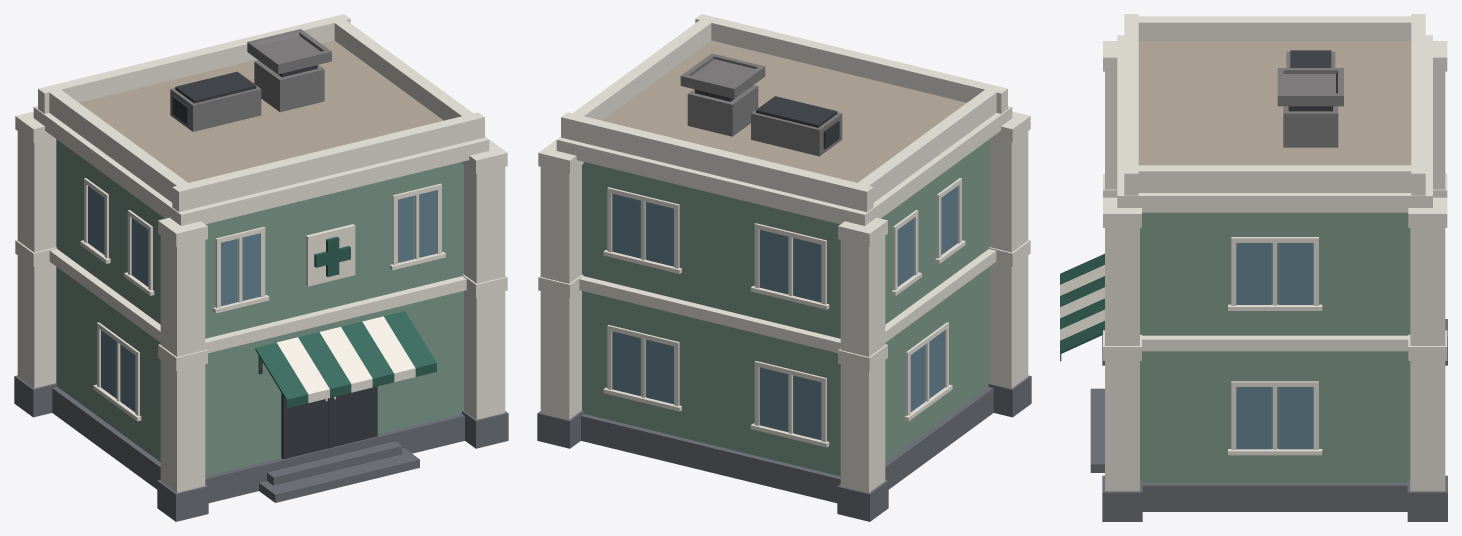
File: pharmacy.fbx
3 renders of one model, left to right at view 1: azimuth 30°, elevation 25°; view 2: azimuth 150°, elevation 25°; view 3: azimuth 270°, elevation 25°, orthographic. The views are drawn at different scales.
Visible parts, largest first — view 1: Parapet_Right; view 2: Parapet_Right; view 3: Parapet_Right.
Boxes of the visible parts, x1,y1,x2,y2 form: Parapet_Right: (14,14,508,521); Parapet_Right: (537,14,1031,521); Parapet_Right: (1060,14,1447,521).
Size of the model in its own units: 632 by 640 by 597.
